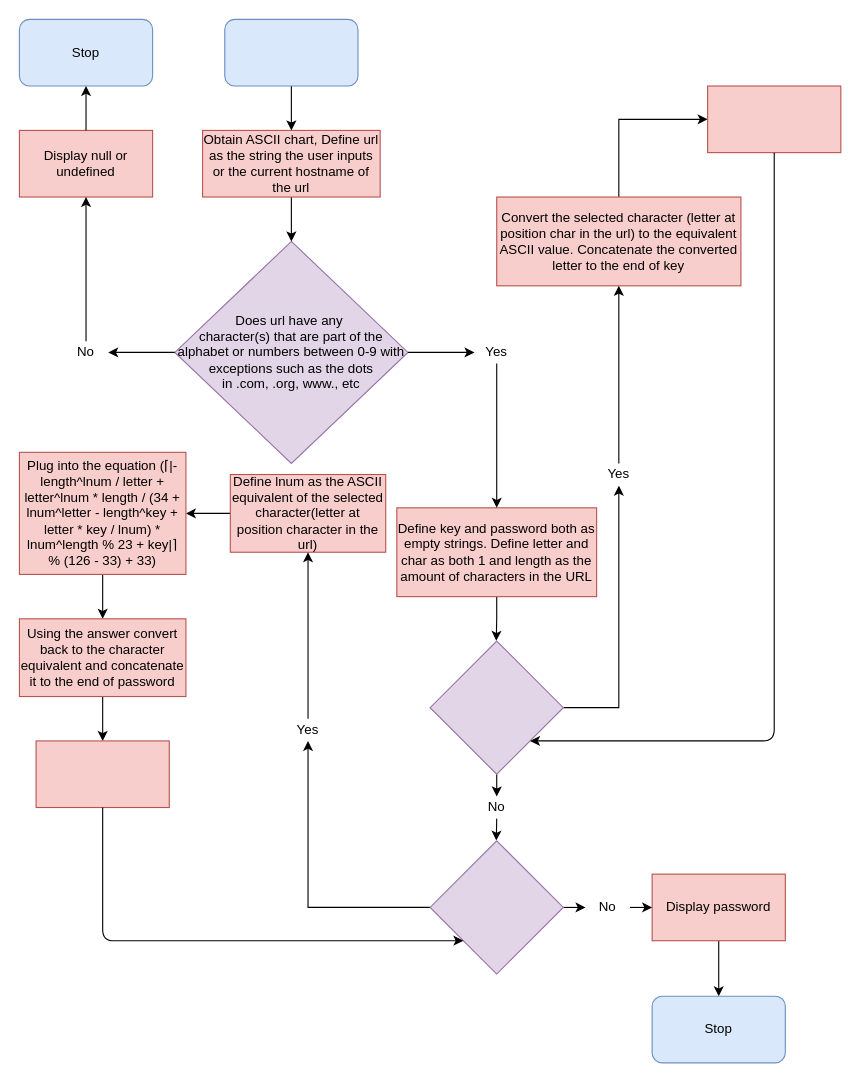
Some shapes in this 860 by 1082 pixel diagram are drawn without their labels. Each missing label, with the centre of its shape:
char = char + 1: the point at 774,119
Is char <= length: the point at 496,707
Is letter <= length: the point at 496,907
letter = letter + 1: the point at 102,774
Start: the point at 291,52
